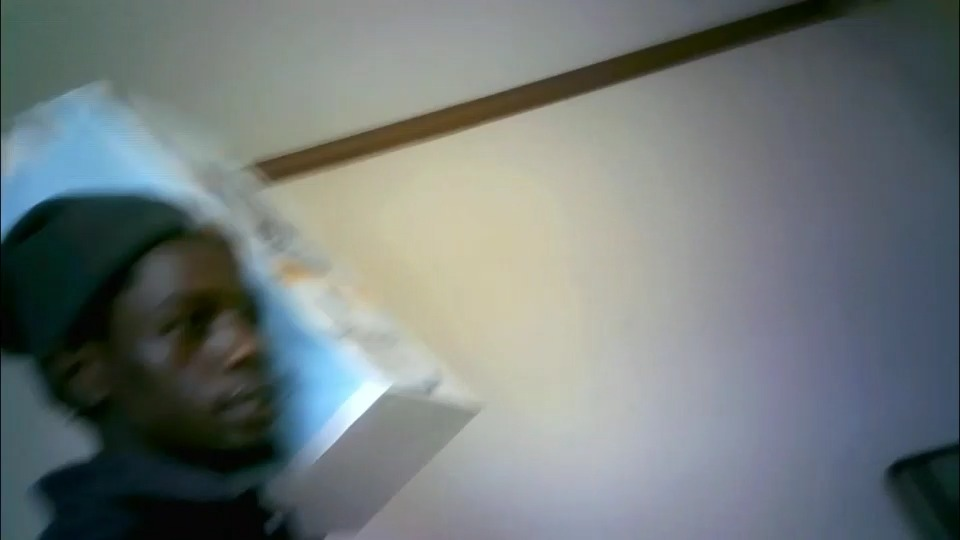wheat_flour_blue_label: (0, 82, 481, 535)
